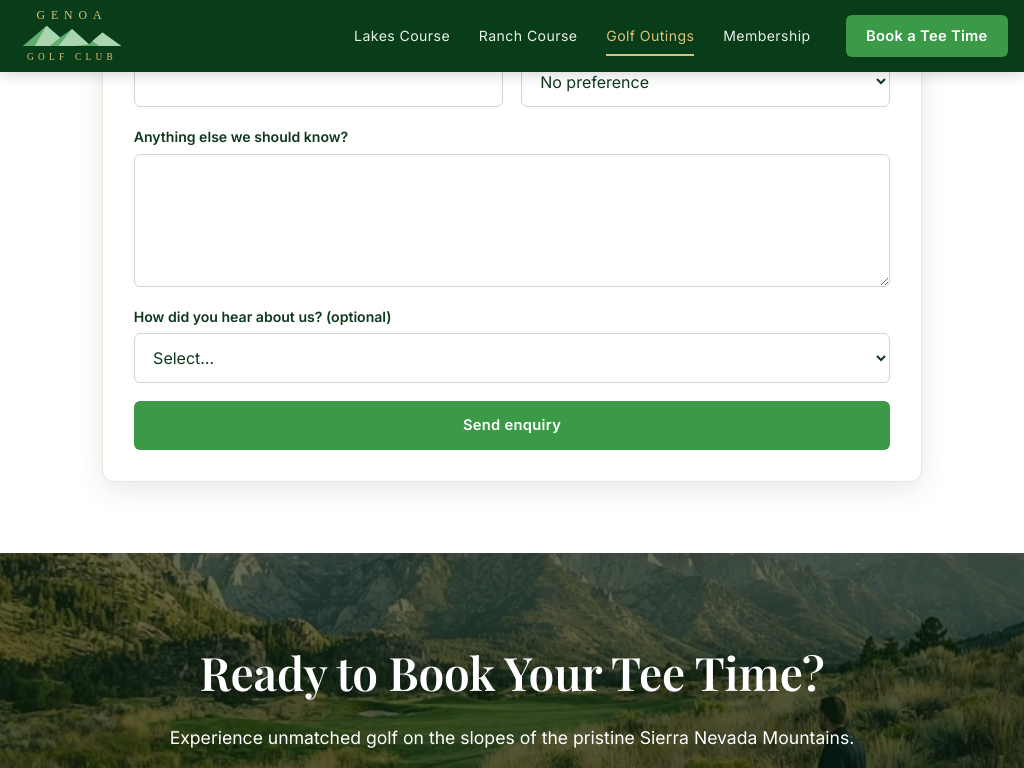
Scenario: enquiry form › shows validation errors, then a reference number on success
(page scrolled)
Click the button "Send enquiry": (512, 425) 134,401 -> 890,450
(page scrolled)
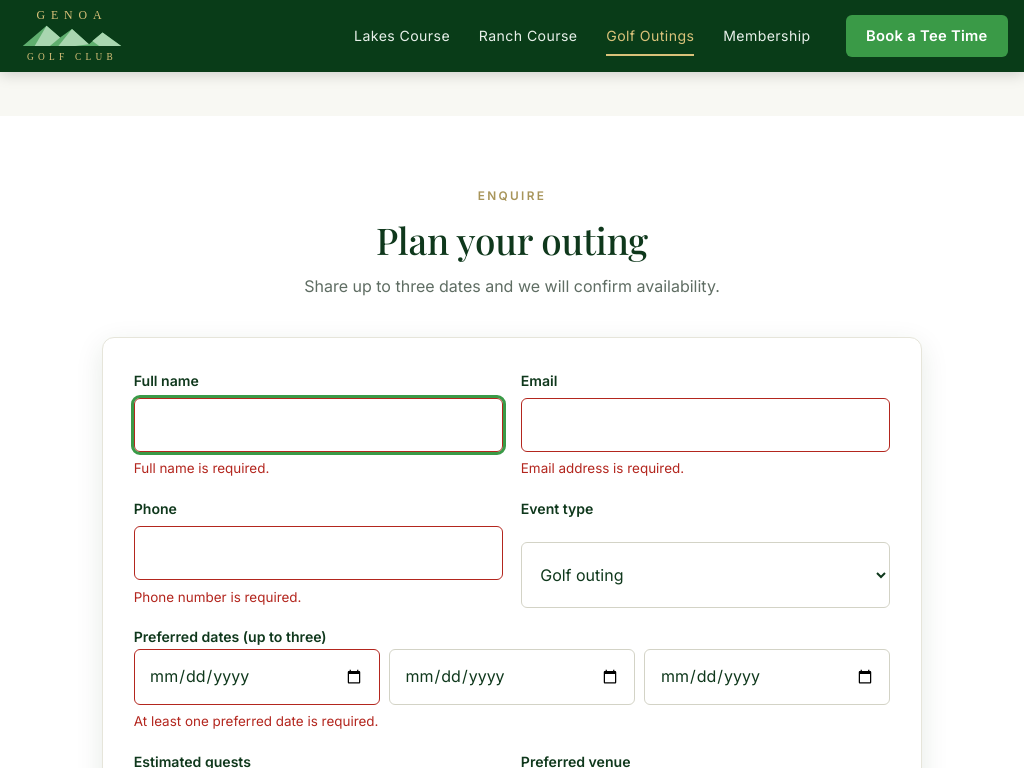
Expected: the text "Full name is required." is shown, 134,460 -> 269,476
In the field labelled "Full name": (318, 425) 134,398 -> 503,452, type "Jordan M"
In the field labelled "Email": (706, 425) 521,398 -> 890,452, type "j@example.com"
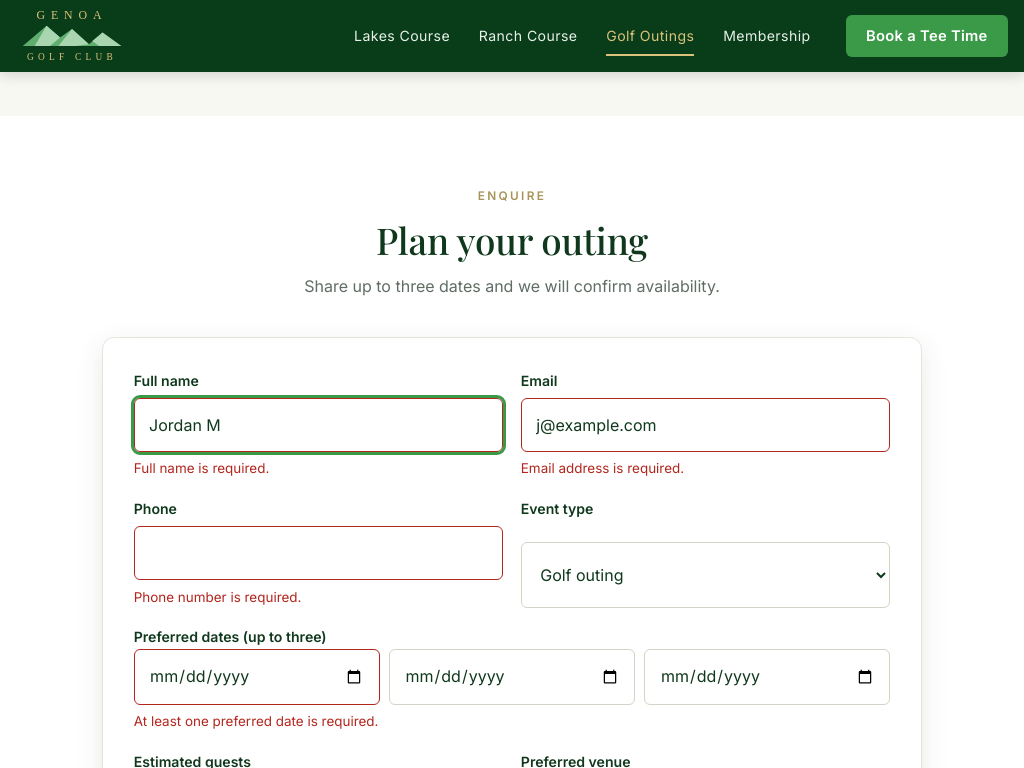
In the field labelled "Phone": (318, 553) 134,526 -> 503,580, type "775 555 0142"
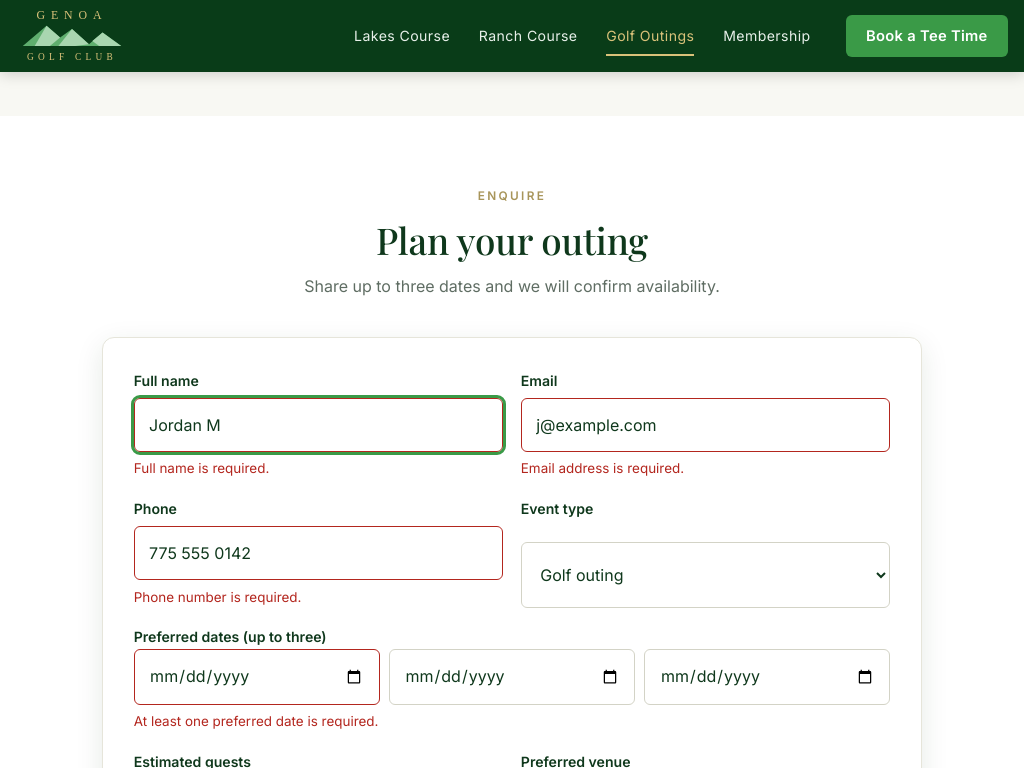
In the date field named "First choice date": (257, 677) 134,649 -> 380,705, type "2999-01-01"
(page scrolled)
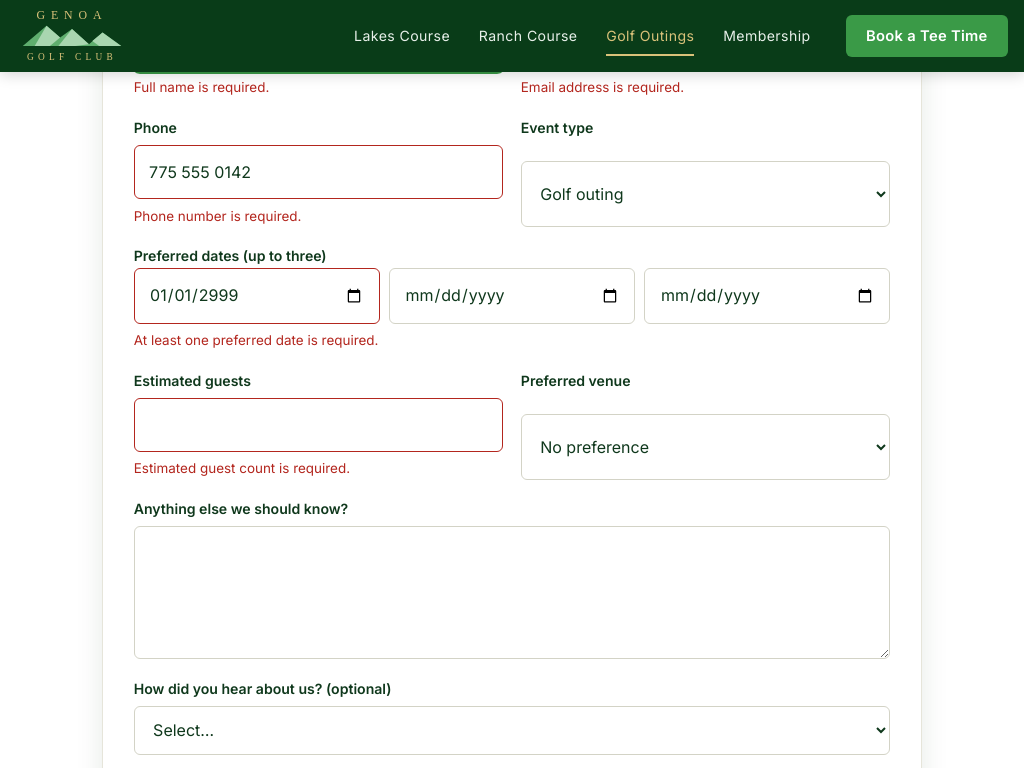
In the number field labelled "Estimated guests": (318, 425) 134,398 -> 503,452, type "40"
(page scrolled)
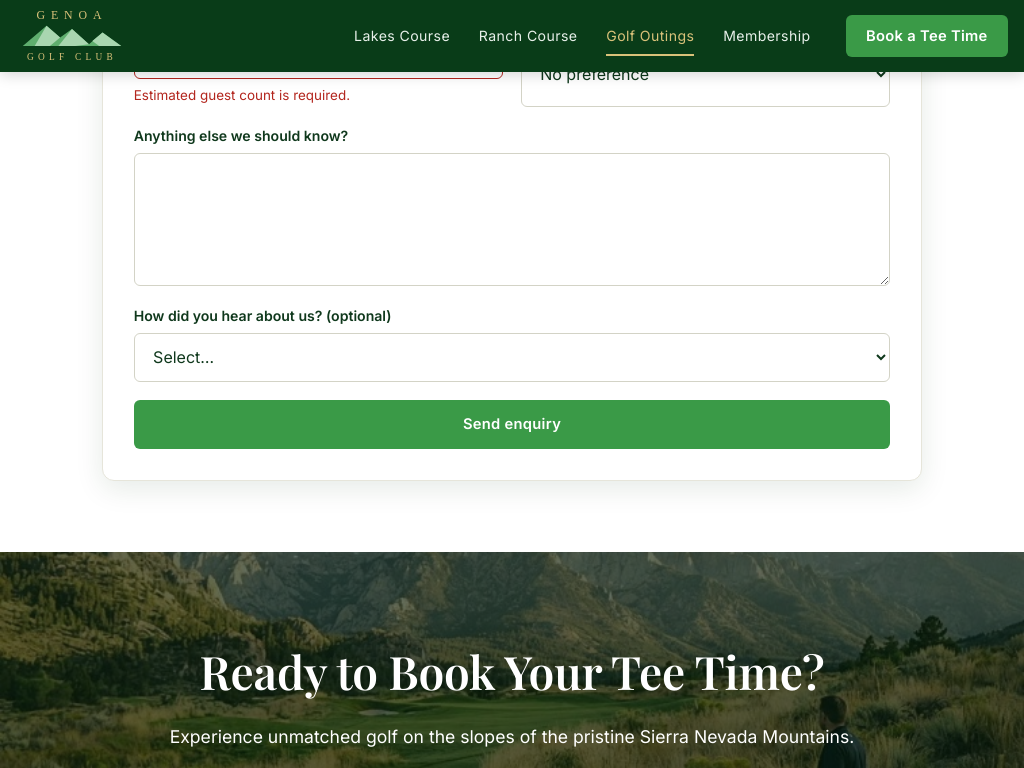
Click the button "Send enquiry": (512, 424) 134,400 -> 890,449
(page scrolled)
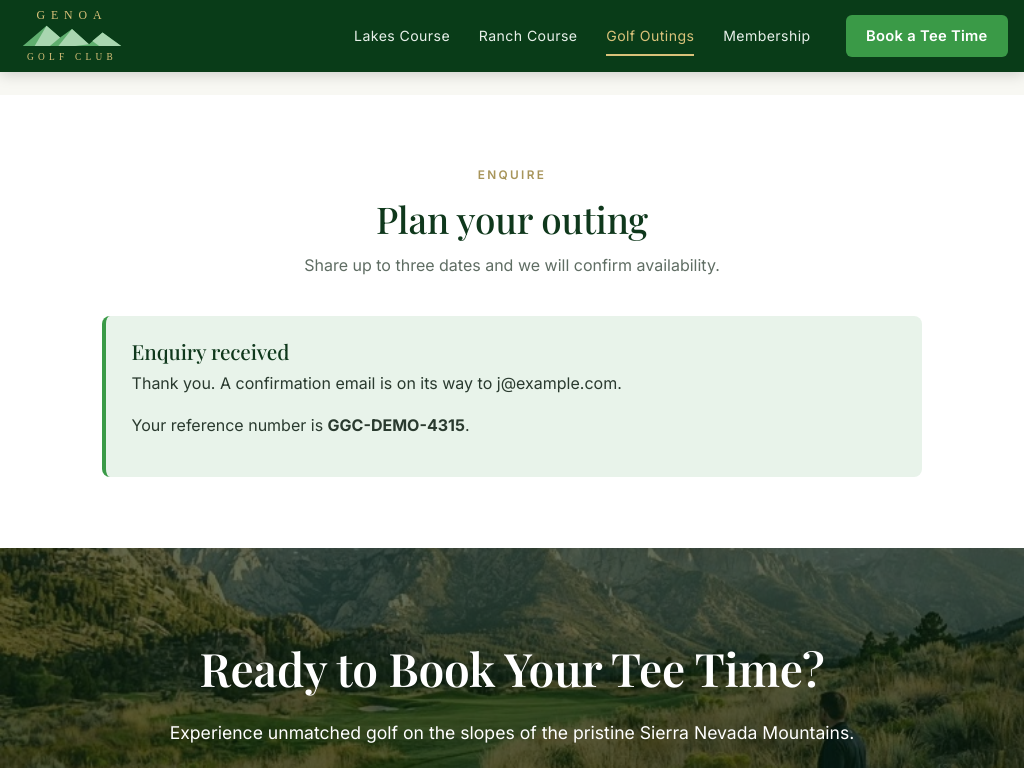
Expected: the text "GGC-DEMO-4315" is shown, 328,415 -> 465,435
